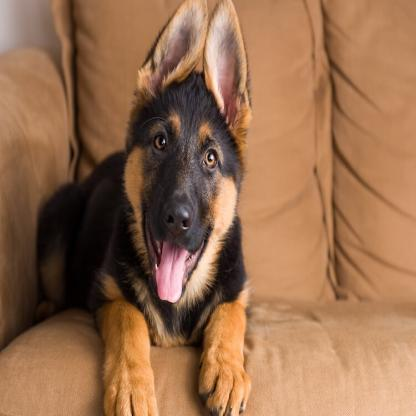german shepherd: (30, 1, 253, 416)
